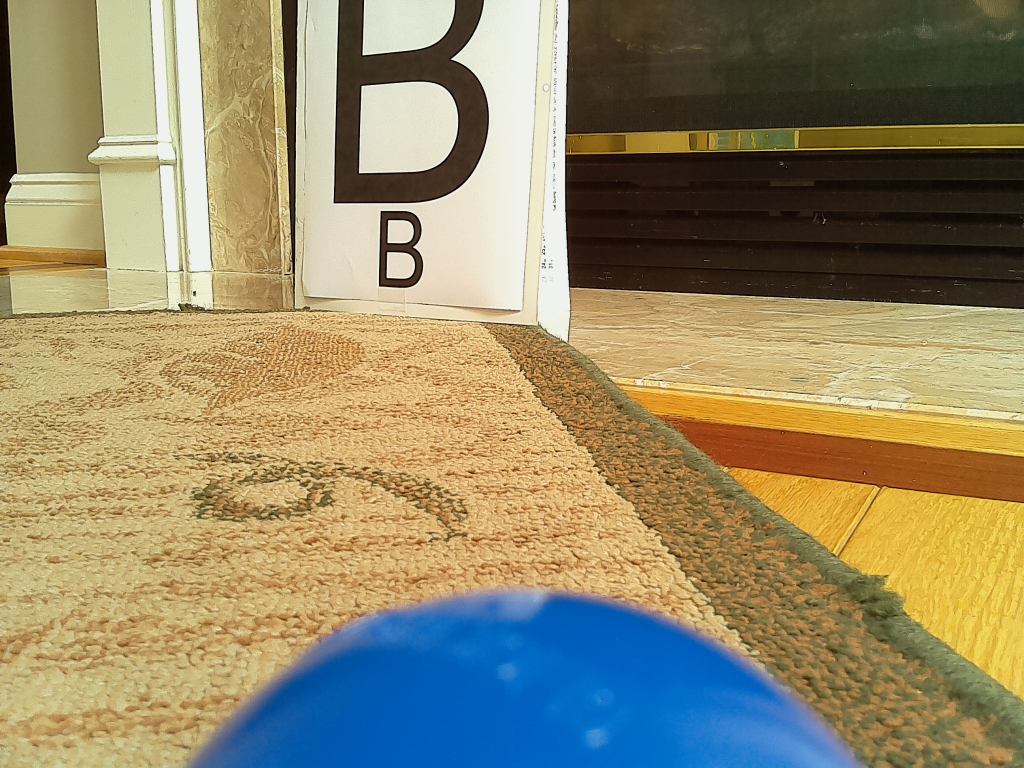letter: (377, 212, 425, 288)
